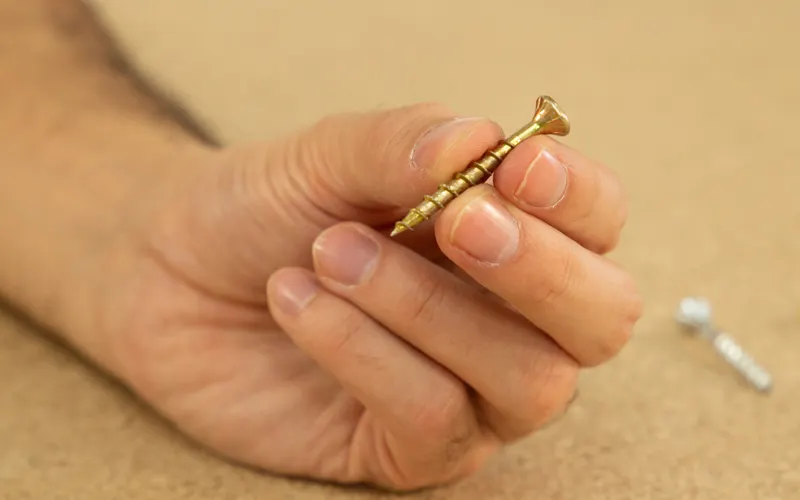tornillo: (284, 188, 436, 332)
